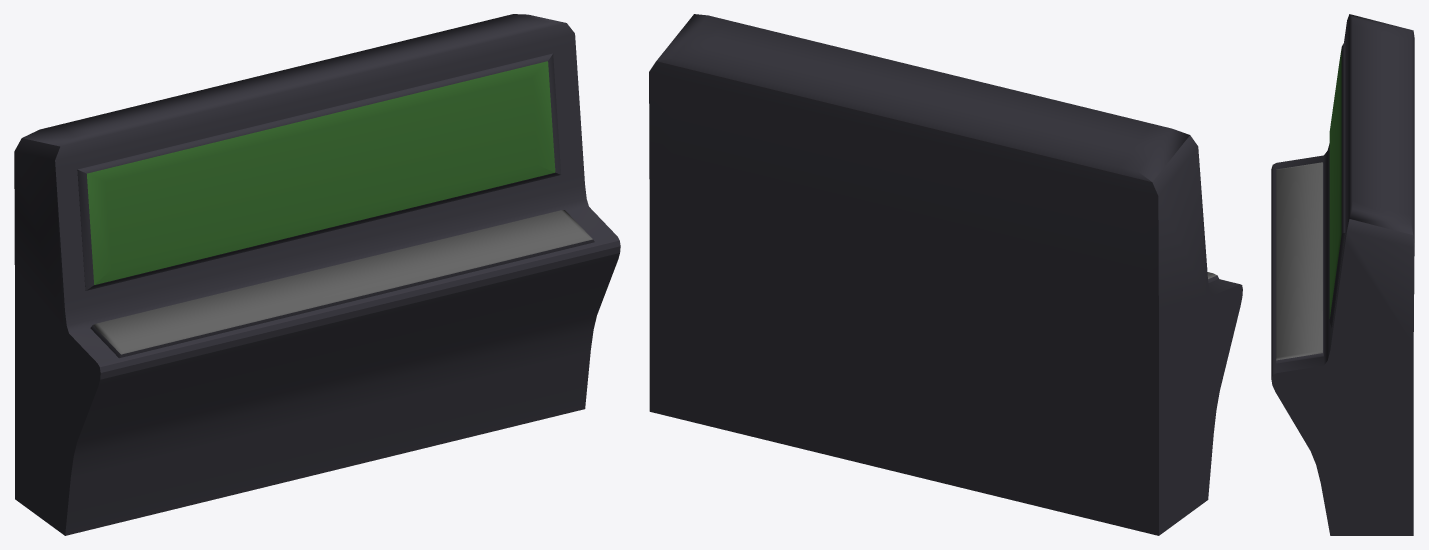
File: Terminal.fbx
The picture shows the model from 3 angles, left to right: view 1: azimuth 30°, elevation 25°; view 2: azimuth 150°, elevation 25°; view 3: azimuth 270°, elevation 25°; orthographic projection. The views are drawn at different scales.
Visible parts, largest first — view 1: Cube; view 2: Cube; view 3: Cube.
Boxes of the visible parts, bbox=[...] form: Cube: bbox=[14, 14, 620, 535]; Cube: bbox=[649, 14, 1242, 535]; Cube: bbox=[1271, 14, 1414, 535].
Size of the model in its own units: 855 by 602 by 246.
